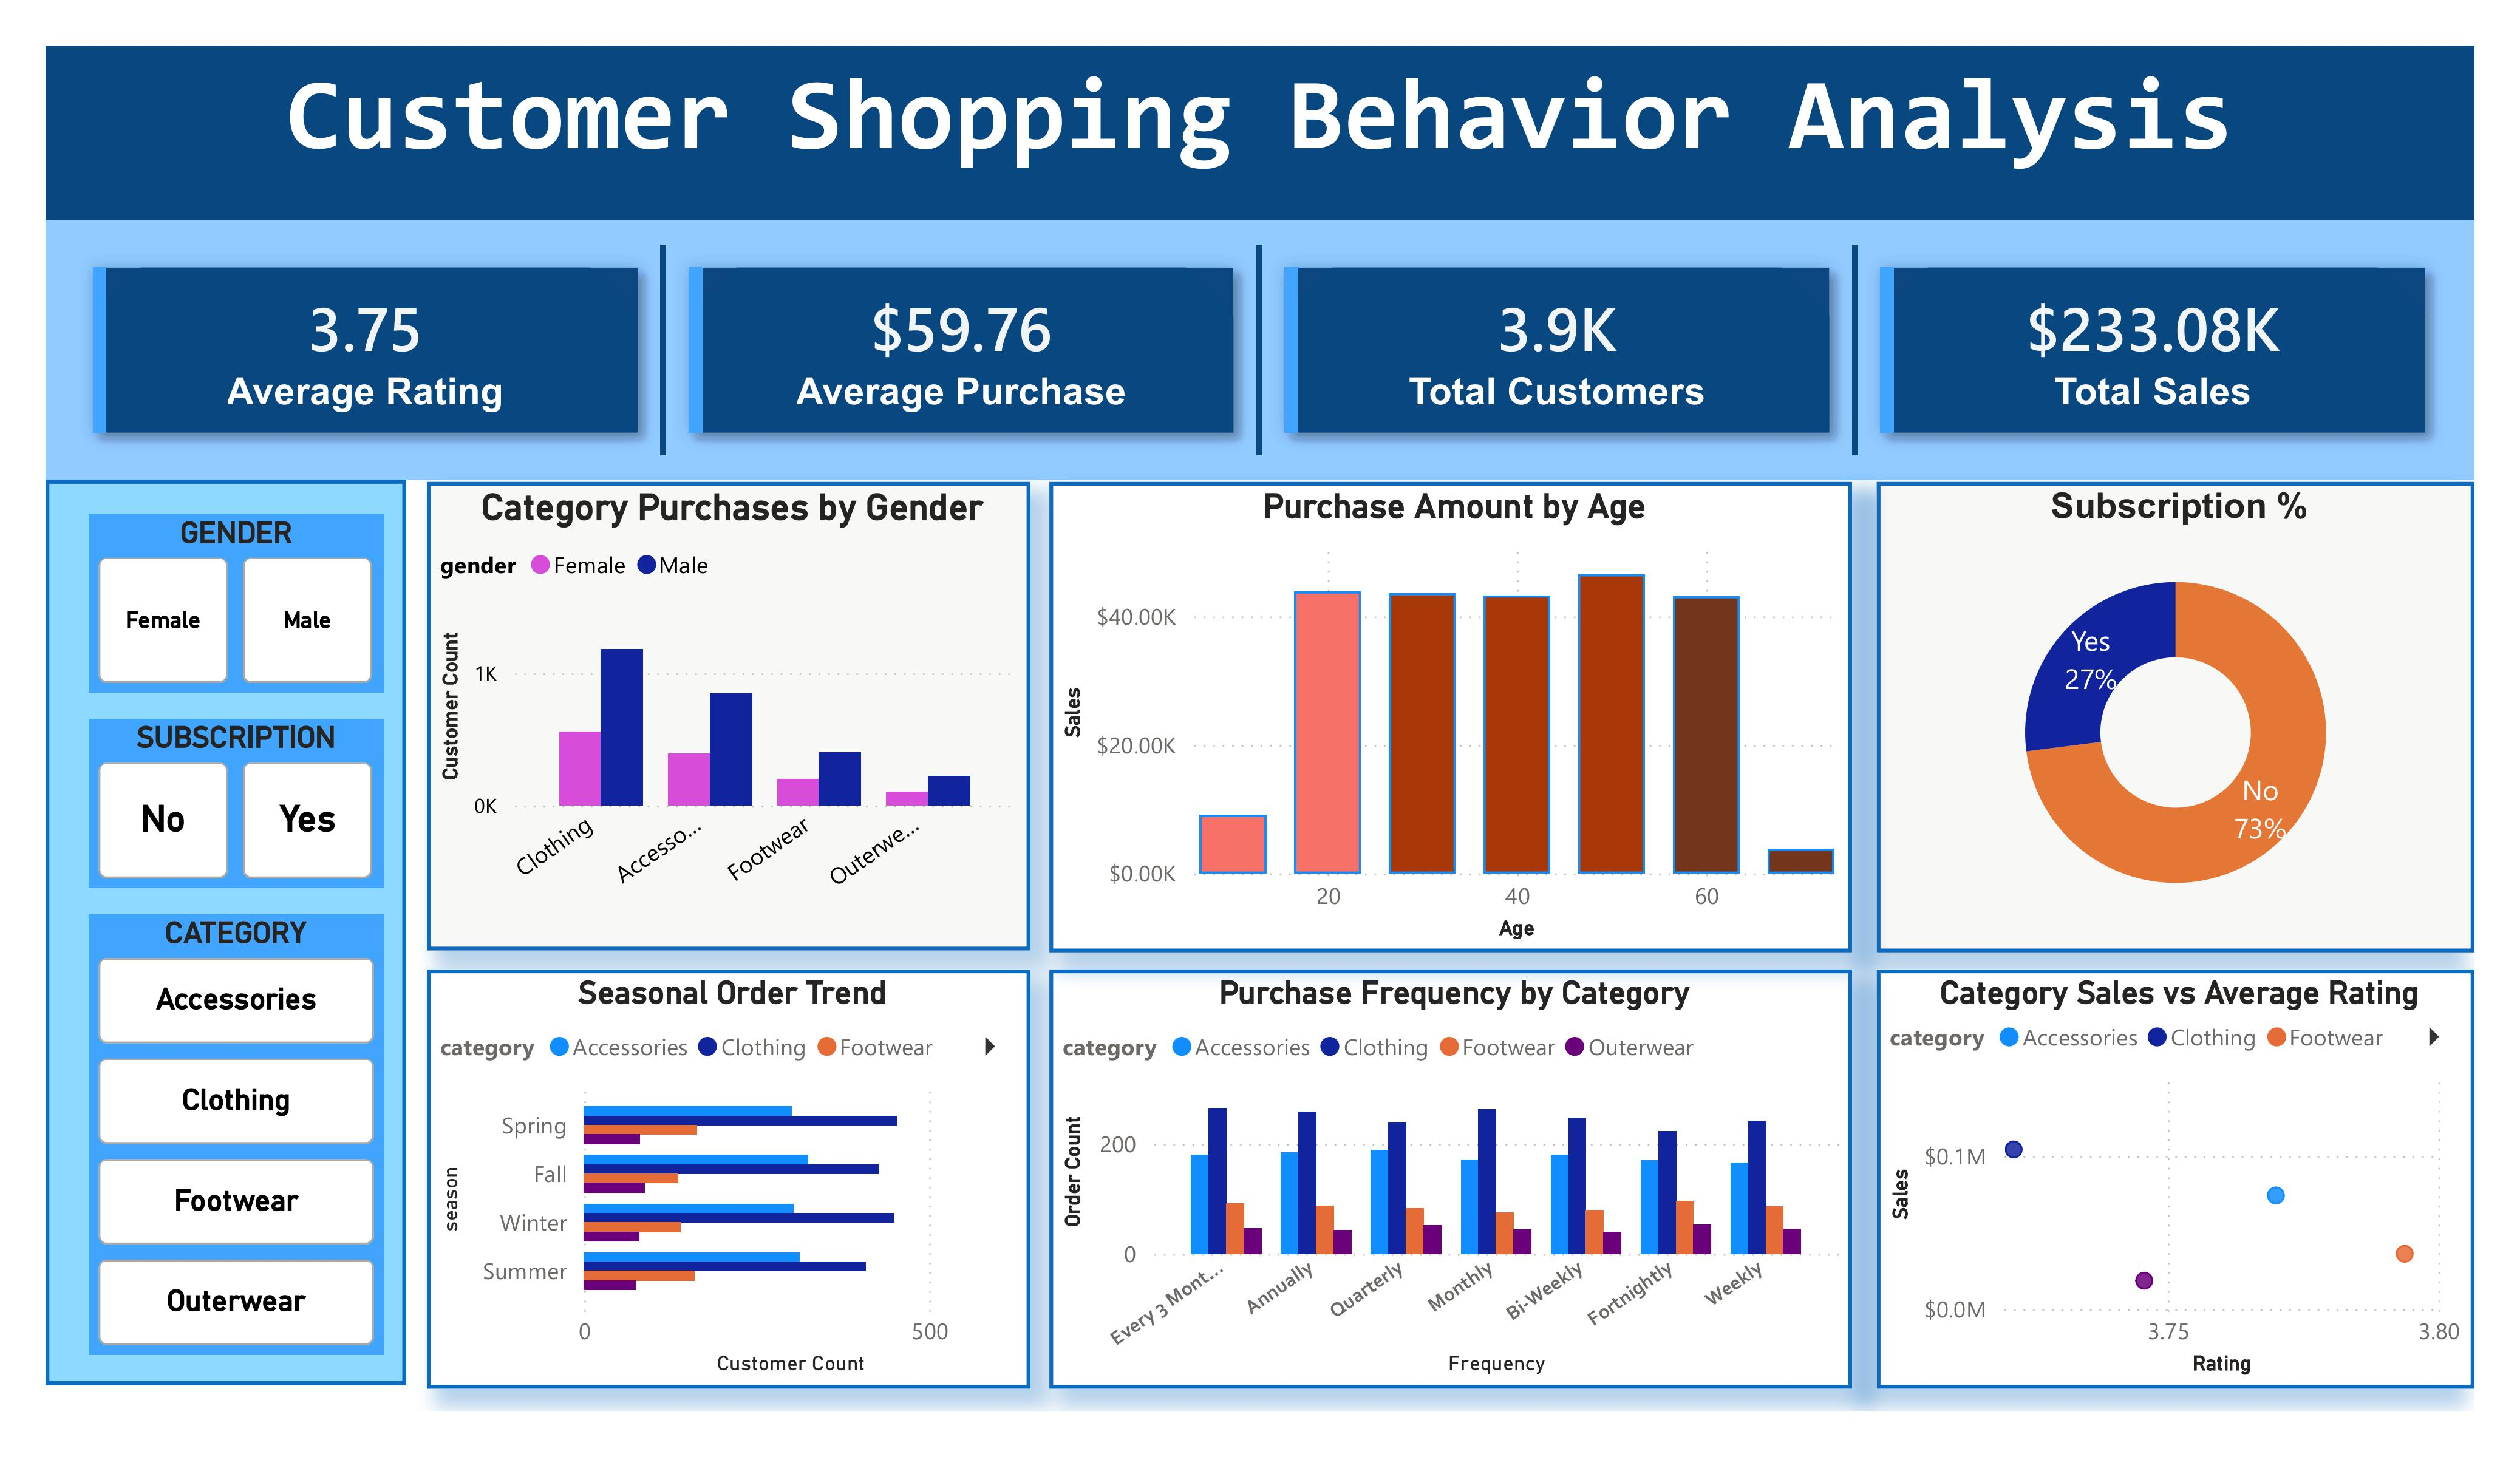

What the dashboard file says about the page in this screenshot:
{"tool":"powerbi","page":{"name":"Page 1","canvas":[1280,720],"ordinal":0},"visuals":[{"type":"cardVisual","fields":{"Data":["Sheet1.Average Rating","Sheet1.Average Purchase","Sheet1.Number Of Customers","Sheet1.Total Sales"]},"box":[0,92,1280,137.3],"z":0},{"type":"pieChart","title":"Subscription %","fields":{"Category":["Sheet1.subscription_status"],"Y":["CountNonNull(Sheet1.customer_id)"]},"box":[965.1,230.2,315.1,247.7],"z":1000},{"type":"scatterChart","title":"Category Sales vs Average Rating","fields":{"Category":["Sheet1.category"],"Y":["Sum(Sheet1.purchase_amount)"],"X":["Sheet1.Average Rating"],"Series":["Sheet1.category"]},"box":[965.1,487.2,315.1,220.9],"z":2000},{"type":"clusteredColumnChart","title":"Category Purchases by Gender","fields":{"Category":["Sheet1.category"],"Y":["CountNonNull(Sheet1.customer_id)"],"Series":["Sheet1.gender"]},"box":[201.2,230.2,317.4,246.5],"z":3000},{"type":"textbox","box":[0,0,1280,92],"z":4000},{"type":"clusteredBarChart","title":"Seasonal Order Trend","fields":{"Y":["CountNonNull(Sheet1.customer_id)"],"Category":["Sheet1.season"],"Series":["Sheet1.category"]},"box":[201.2,487.2,317.4,220.9],"z":5000},{"type":"clusteredColumnChart","title":"Purchase Frequency by Category","fields":{"Series":["Sheet1.category"],"Category":["Sheet1.frequency_of_purchases"],"Y":["Count(Sheet1.customer_id)"]},"box":[529.1,487.2,423.3,220.9],"z":6000},{"type":"clusteredColumnChart","title":"Purchase Amount by Age","fields":{"Category":["Sheet1.age (bins)"],"Y":["Sum(Sheet1.purchase_amount)"]},"box":[529.1,230.2,423.3,247.7],"z":7000},{"type":"shape","box":[0,229,190,477],"z":8000},{"type":"advancedSlicerVisual","title":"GENDER","fields":{"Values":["Sheet1.gender"]},"box":[23.3,246.5,154.7,94.2],"z":9000},{"type":"advancedSlicerVisual","title":"SUBSCRIPTION","fields":{"Values":["Sheet1.subscription_status"]},"box":[23.3,354.7,154.7,89.5],"z":10000},{"type":"advancedSlicerVisual","title":"CATEGORY","fields":{"Values":["Sheet1.category"]},"box":[23.3,458.1,154.7,231.4],"z":11000}]}

Visuals, with their boxes in screenshot pixels (x1, y1, x2, y2):
cardVisual - Sheet1.Average Rating x Sheet1.Average Purchase: bbox=(33, 218, 2518, 484)
"Subscription %" pieChart: bbox=(1907, 486, 2518, 967)
"Category Sales vs Average Rating" scatterChart: bbox=(1907, 985, 2518, 1414)
"Category Purchases by Gender" clusteredColumnChart: bbox=(423, 486, 1040, 965)
textbox: bbox=(33, 39, 2518, 218)
"Seasonal Order Trend" clusteredBarChart: bbox=(423, 985, 1040, 1414)
"Purchase Frequency by Category" clusteredColumnChart: bbox=(1060, 985, 1882, 1414)
"Purchase Amount by Age" clusteredColumnChart: bbox=(1060, 486, 1882, 967)
shape: bbox=(33, 484, 402, 1410)
"GENDER" advancedSlicerVisual: bbox=(78, 518, 378, 701)
"SUBSCRIPTION" advancedSlicerVisual: bbox=(78, 728, 378, 902)
"CATEGORY" advancedSlicerVisual: bbox=(78, 929, 378, 1377)
